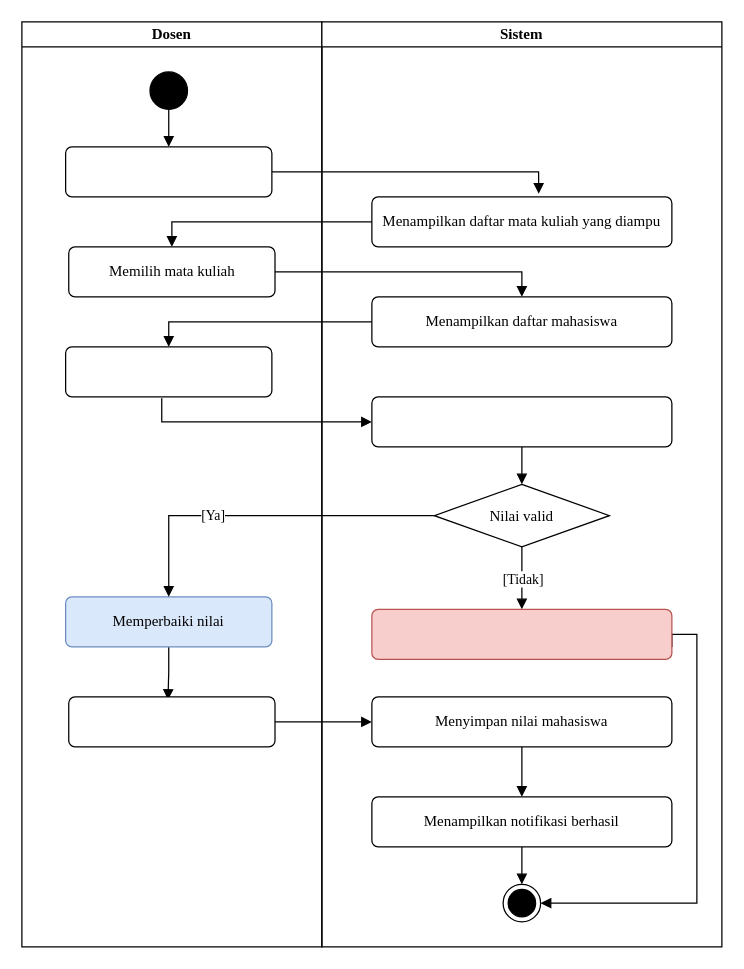
Image size: 744x969. Some labels were removed from this diagram. The shapes that lost their labels are listed below. From the top down, each one's centre as x and y in pixels, then its label:
At point 168,171: "Membuka menu Input Nilai".
At point 168,371: "Memasukkan nilai mahasiswa".
At point 521,421: "Memeriksa kelengkapan dan rentang nilai".
At point 521,633: "Menampilkan pesan kesalahan".
At point 171,721: "Menyimpan nilai".
